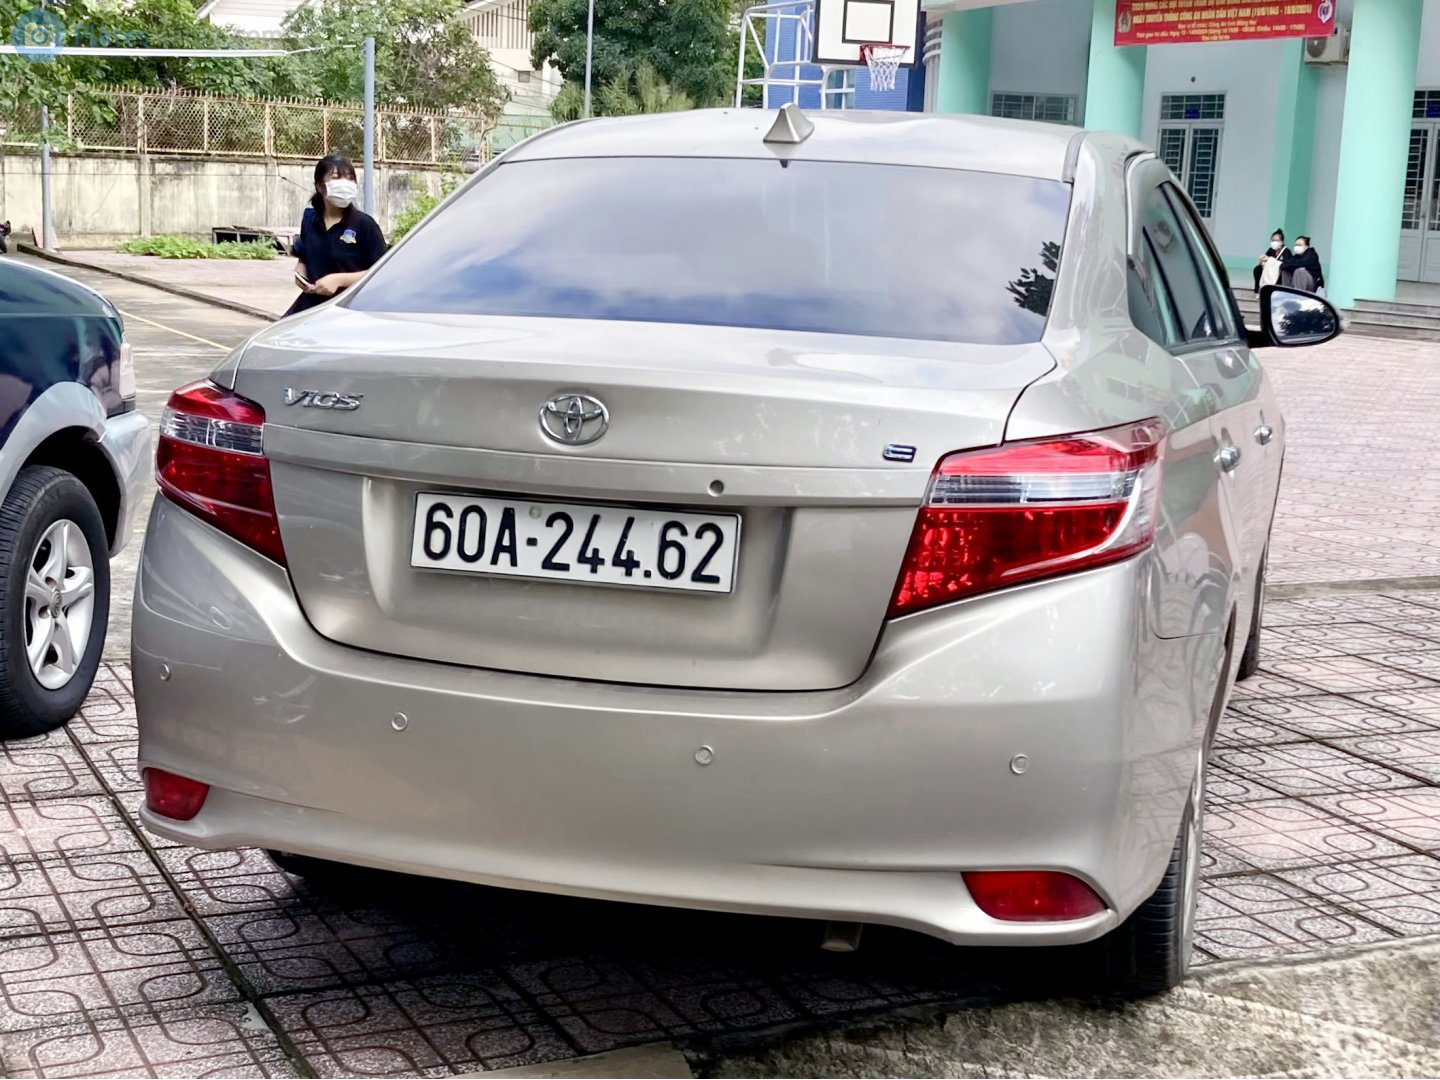bien_so: (411, 492, 741, 595)
